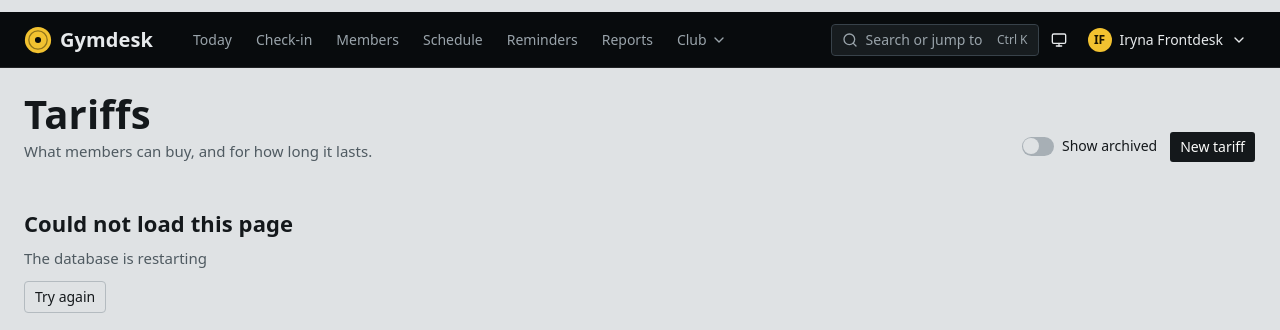
tariff list › explains a loading failure and recovers on retry
Expected: the heading "Tariffs" is shown, [24,86,151,141]
Expected: the text "The database is restarting" is shown, [24,247,207,269]
Click the button "Try again".
click(65, 297)  # box [24,281,106,313]
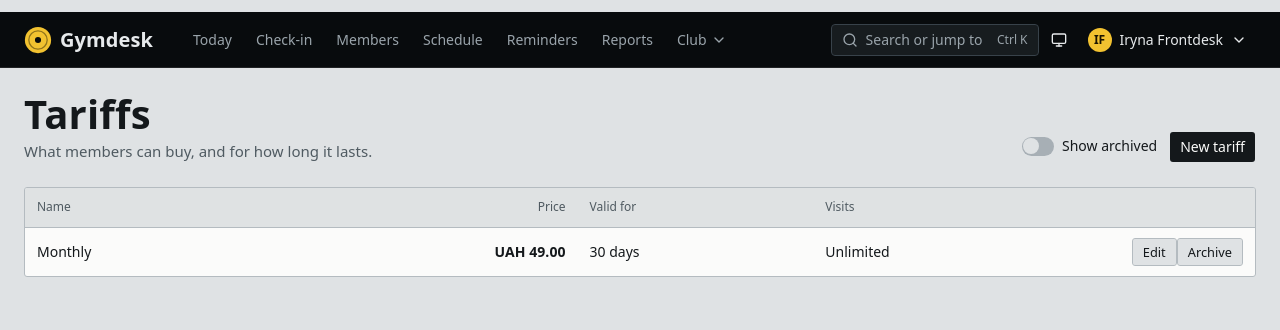
Now the text "Monthly" is shown, box [25,228,274,276]
